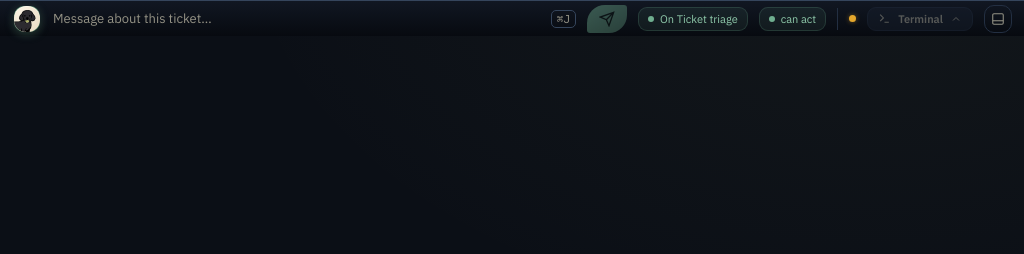
it: the / menu › leaves /note out where no workspace is named — it would have nowhere to live
Type "/" into the field with placeholder "Message about this ticket…" at [295, 18], box [51,9,540,28]
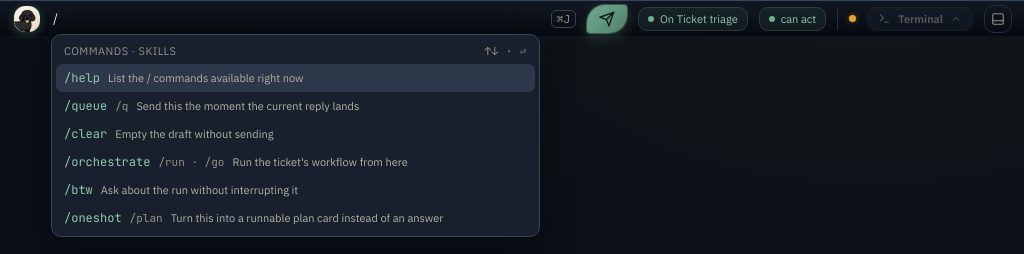
Check: the option "/queue /q Send this the moment the current reply lands" is shown, box [56,92,535,120]
